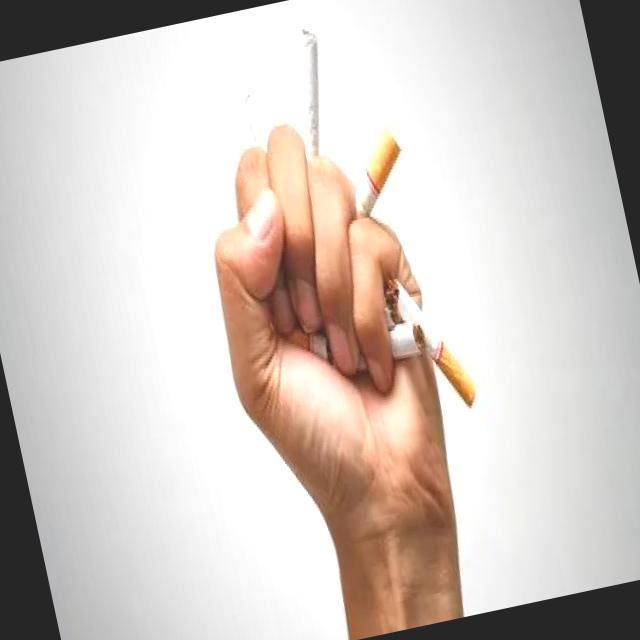cigarette: (374, 254, 484, 437), (281, 21, 346, 170), (332, 121, 420, 228), (280, 314, 350, 374), (236, 84, 274, 158)
